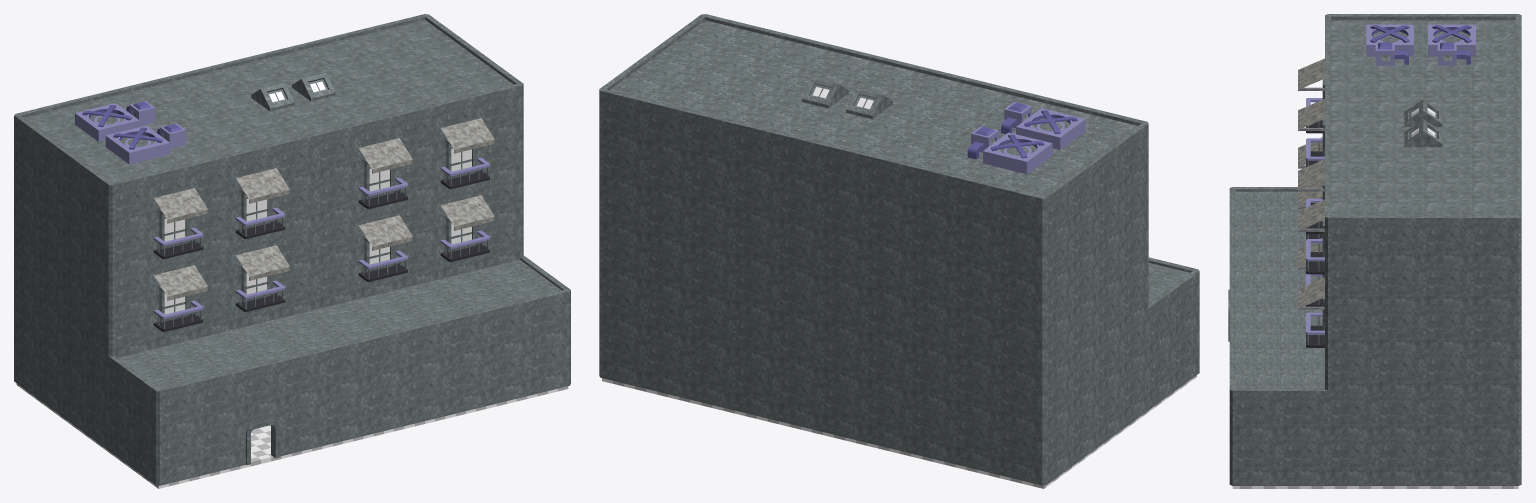
The model's file is Store 2__.fbx.
3 renders of one model, left to right at view 1: azimuth 30°, elevation 25°; view 2: azimuth 150°, elevation 25°; view 3: azimuth 270°, elevation 25°, orthographic. The views are drawn at different scales.
Visible parts, largest first — view 1: mergedBlocks; view 2: mergedBlocks; view 3: mergedBlocks.
Boxes of the visible parts, <box> form: mergedBlocks: <box>14,14,570,488</box>; mergedBlocks: <box>599,14,1199,488</box>; mergedBlocks: <box>1228,14,1521,488</box>.
Size of the model in its own units: 101 by 66.5 by 61.55.
Materials: 12 (8 with a texture image).
